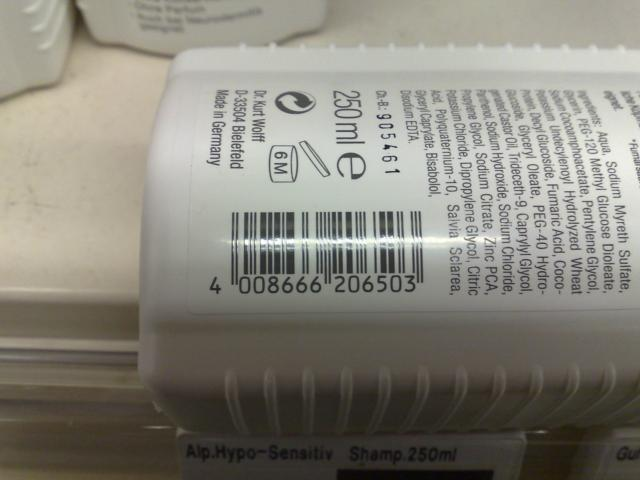Barcode: (198, 204, 441, 308)
